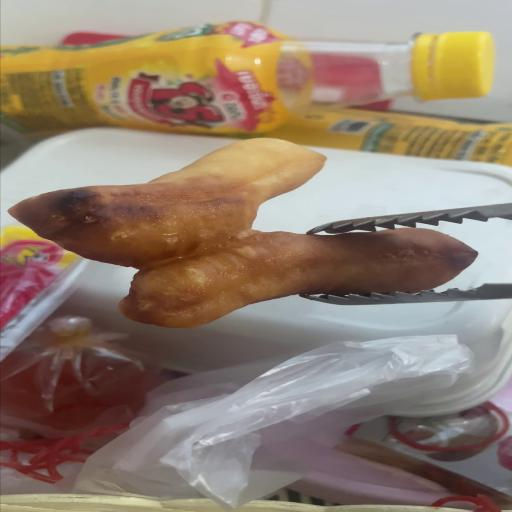street_burnt_good: (9, 139, 478, 326)
